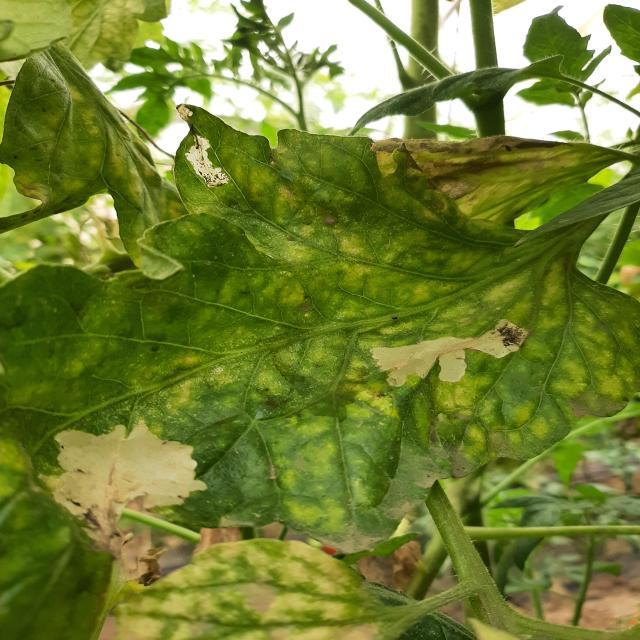Tuta absoluta: (25, 376, 219, 567), (371, 314, 536, 399), (178, 130, 234, 194)
